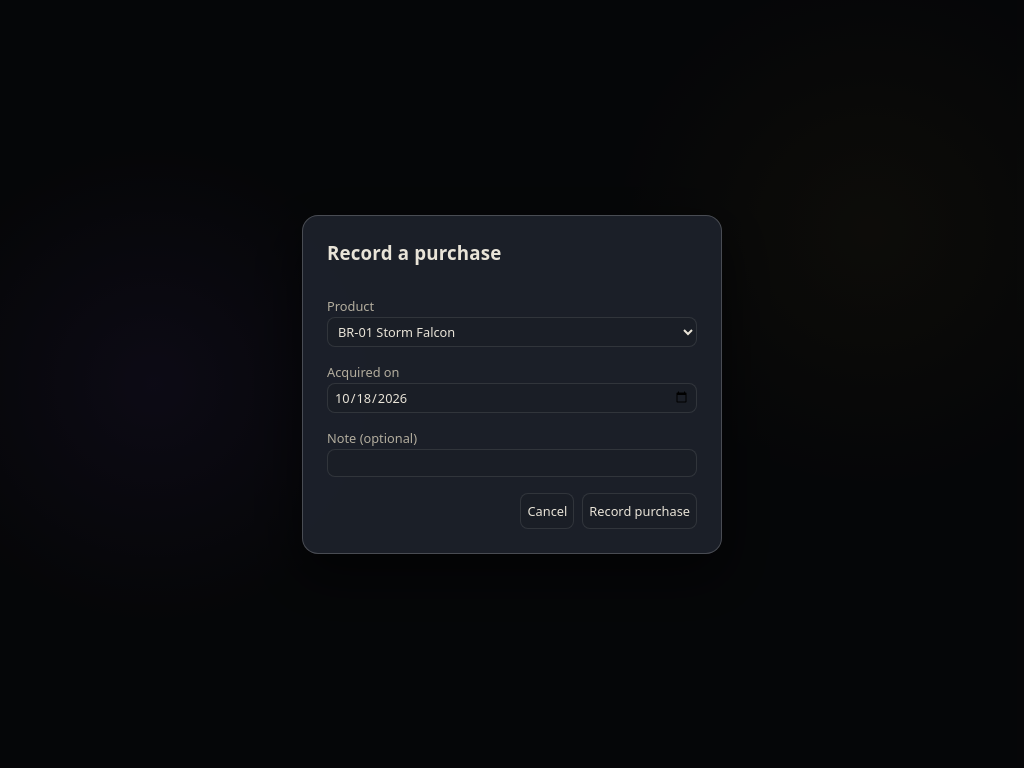
Test: RecordPurchaseDialog › shows the error and stays open when recording fails
The width and height of the screenshot is (1024, 768).
Click the button "Record purchase" at (640, 510), box [582,492,697,528]
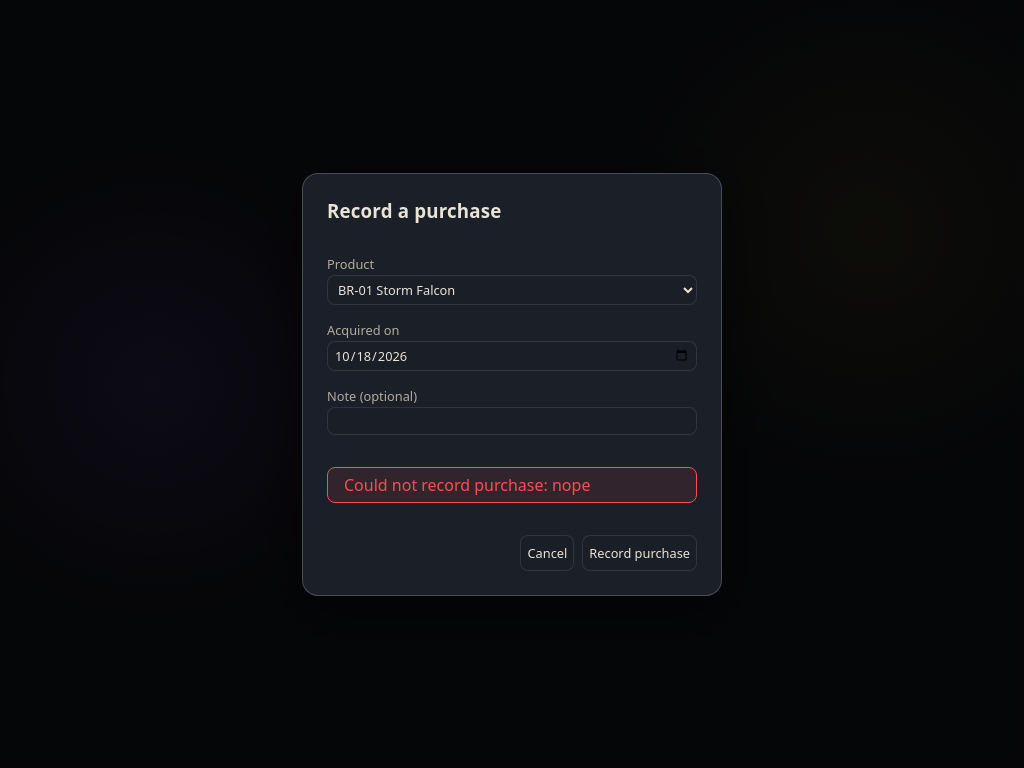
Now the message reads "Could not record purchase: nope", box [344,474,590,496]
